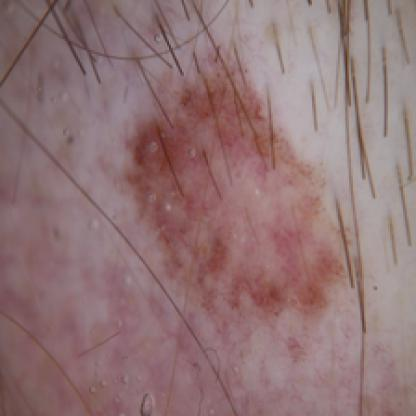benign: (128, 58, 368, 316)
